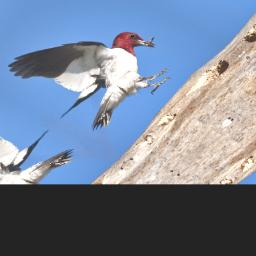Woodpecker: (0, 0, 191, 142)
